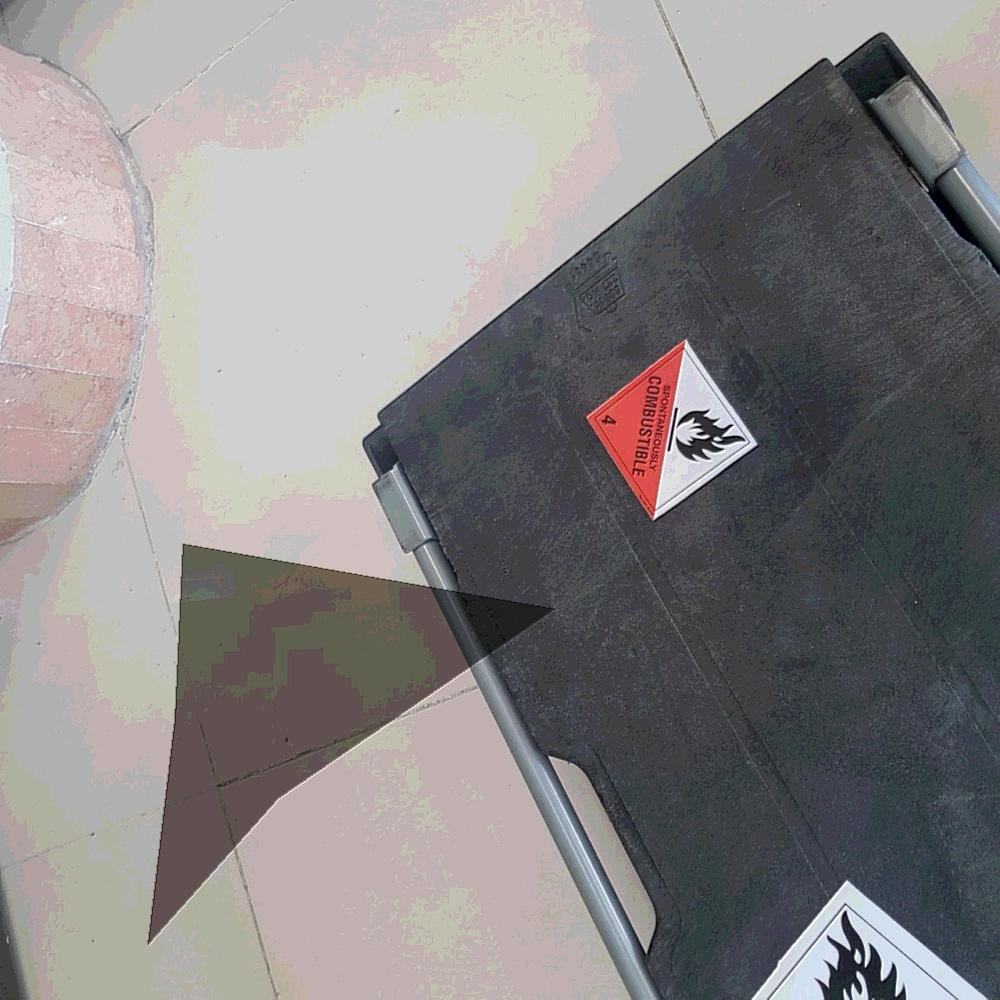spontaneously-combustible: (587, 341, 760, 519)
